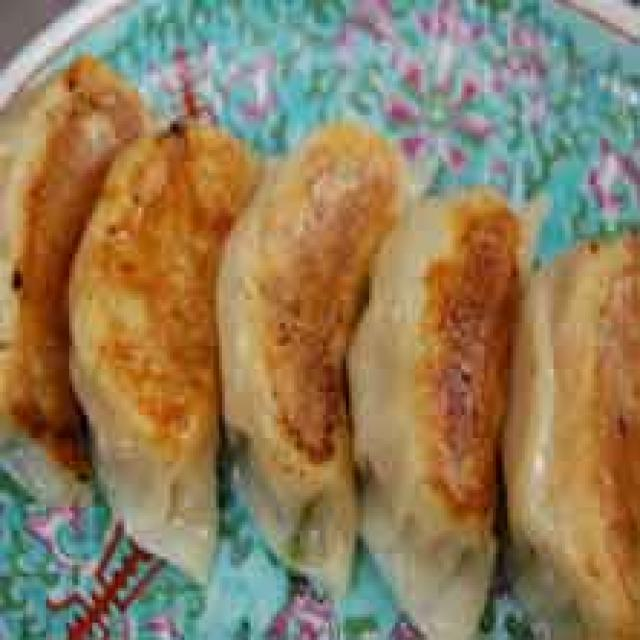带馅早点: (0, 41, 640, 632)
